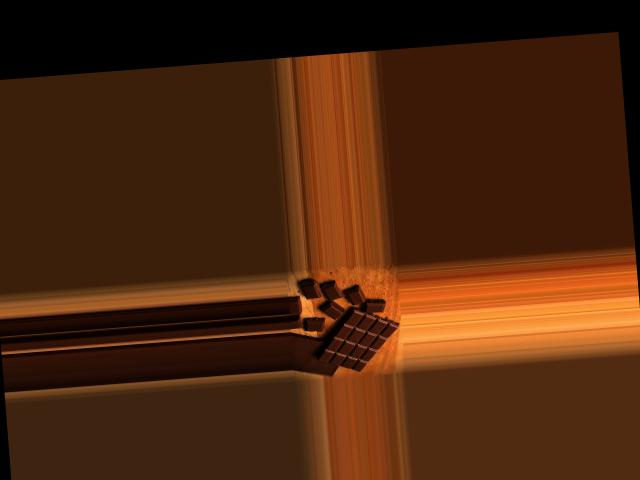chocolate: (312, 300, 399, 375)
